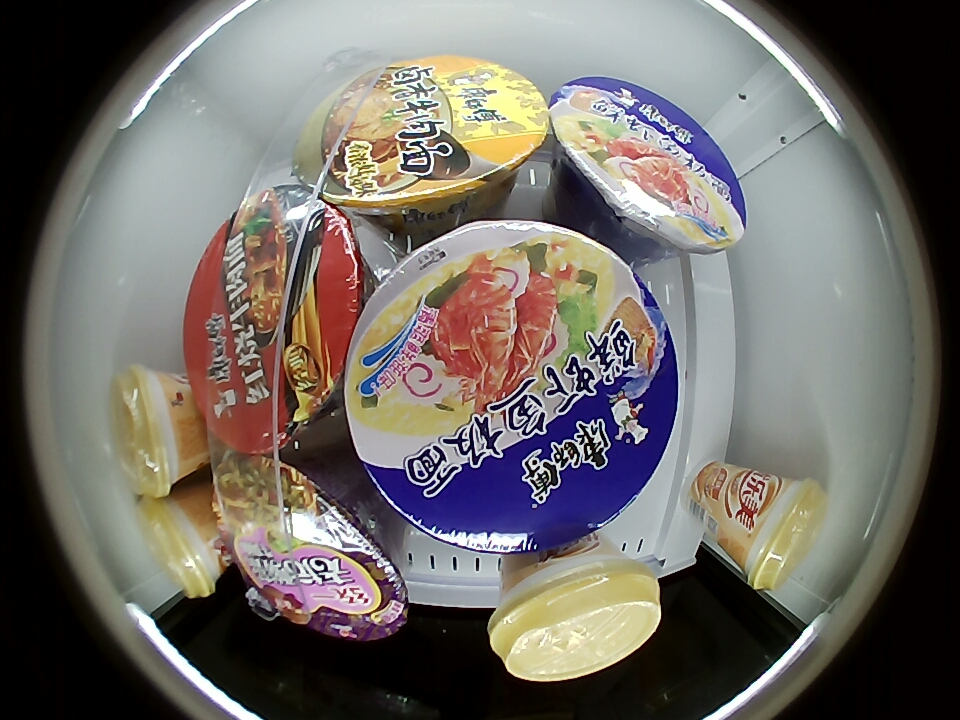hongshaoniurou: (186, 189, 368, 450)
laotansuancai: (214, 451, 410, 643)
luxiangniurou: (293, 56, 550, 213)
xianxiayuban: (342, 219, 682, 556), (548, 75, 747, 253)
youlemei: (489, 553, 663, 682), (737, 475, 828, 593), (113, 365, 192, 498), (137, 491, 227, 600)
